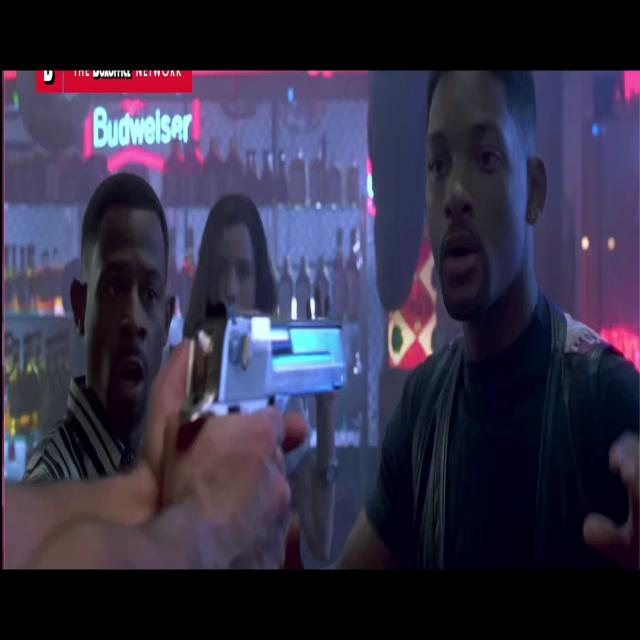weapons: (174, 292, 360, 537)
